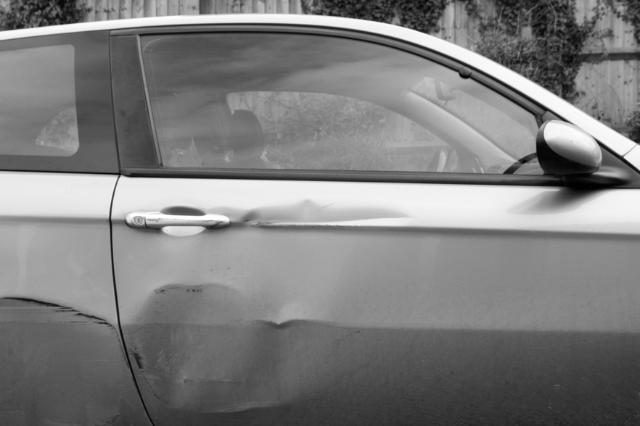Door: (0, 172, 640, 426)
